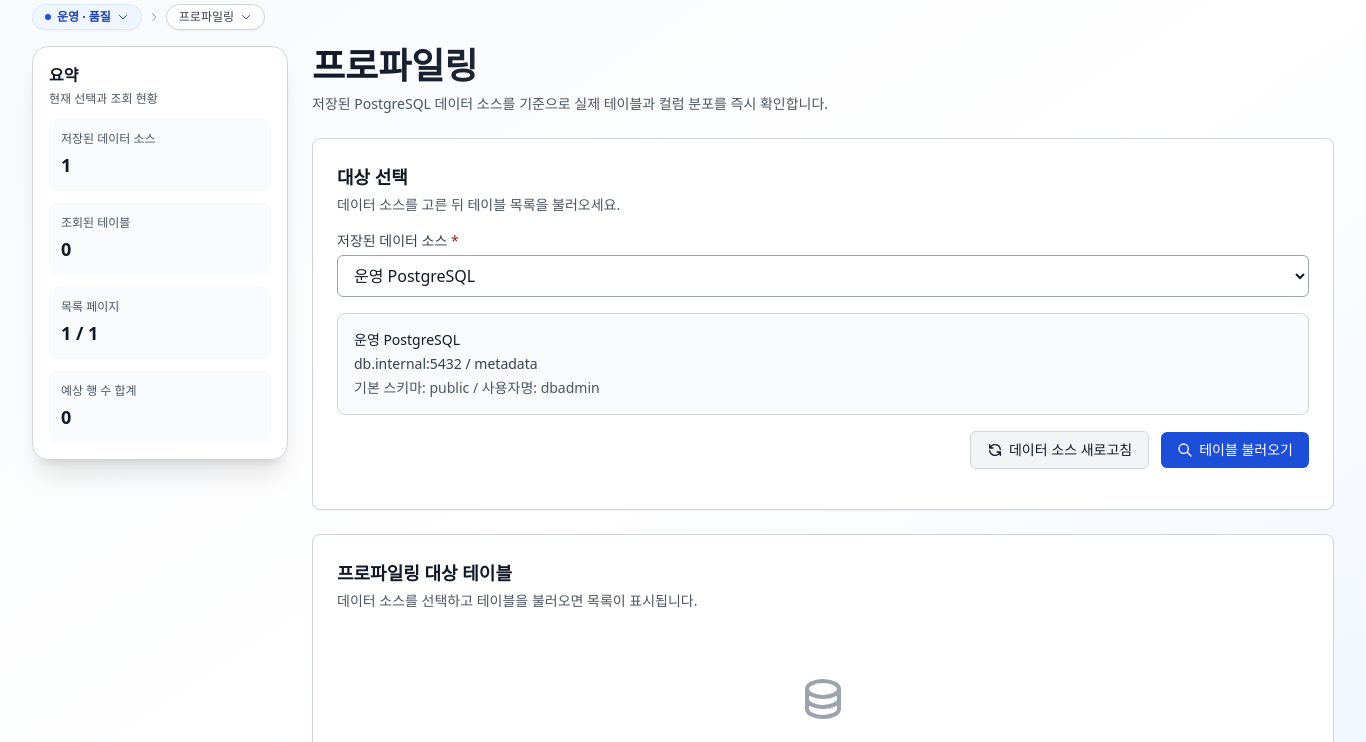
it: Profiling browse page › should paginate profile targets in groups of ten rows
The image size is (1366, 742).
Expected: the dropdown labelled "저장된 데이터 소스" is shown, [337,255,1309,297]
Click the button "테이블 불러오기": coordinates (1235, 450) [1161,432,1309,468]
(page scrolled)
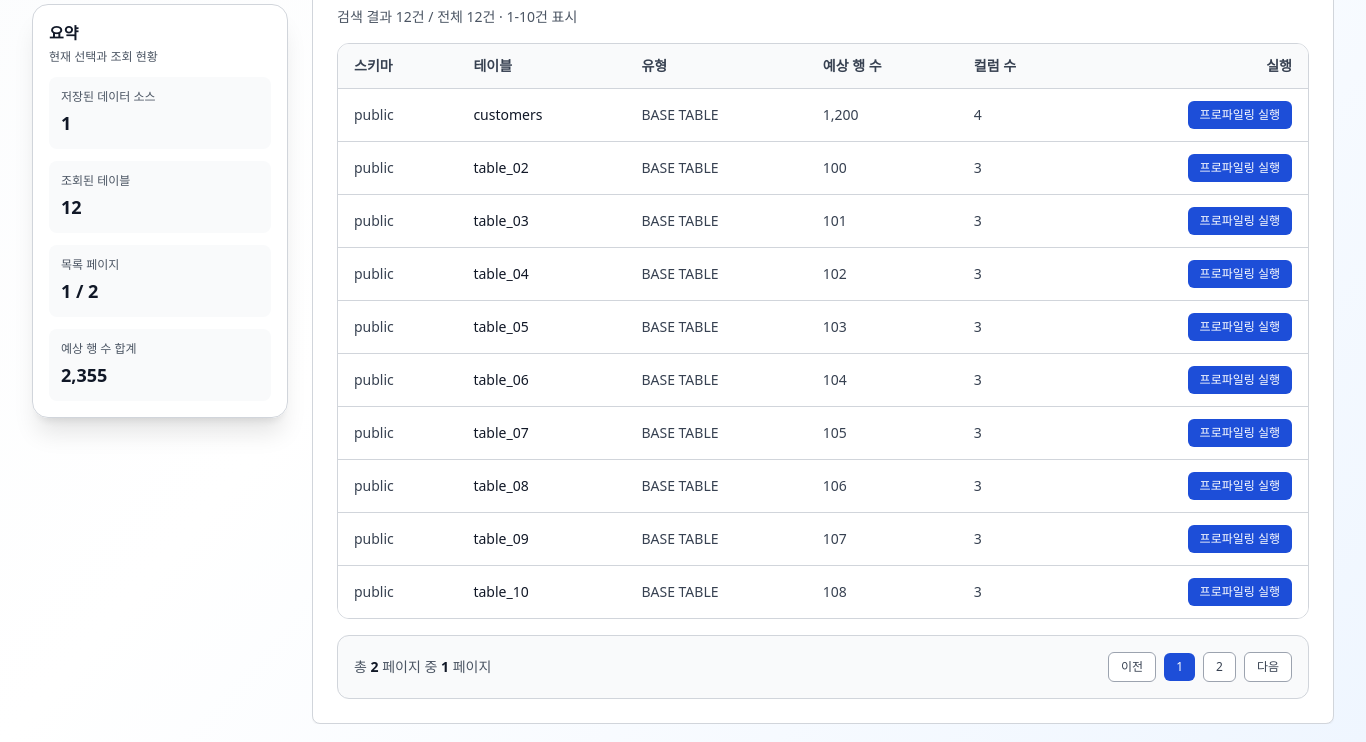
Expected: the navigation bar named "프로파일링 대상 페이지네이션" is shown, [1108,652,1292,682]
Expected: the text "customers" is shown, [473,105,542,124]
Expected: the number of buttons "프로파일링 실행" is 10
Click the button "다음": coordinates (1268, 667) [1244,652,1292,682]
(page scrolled)
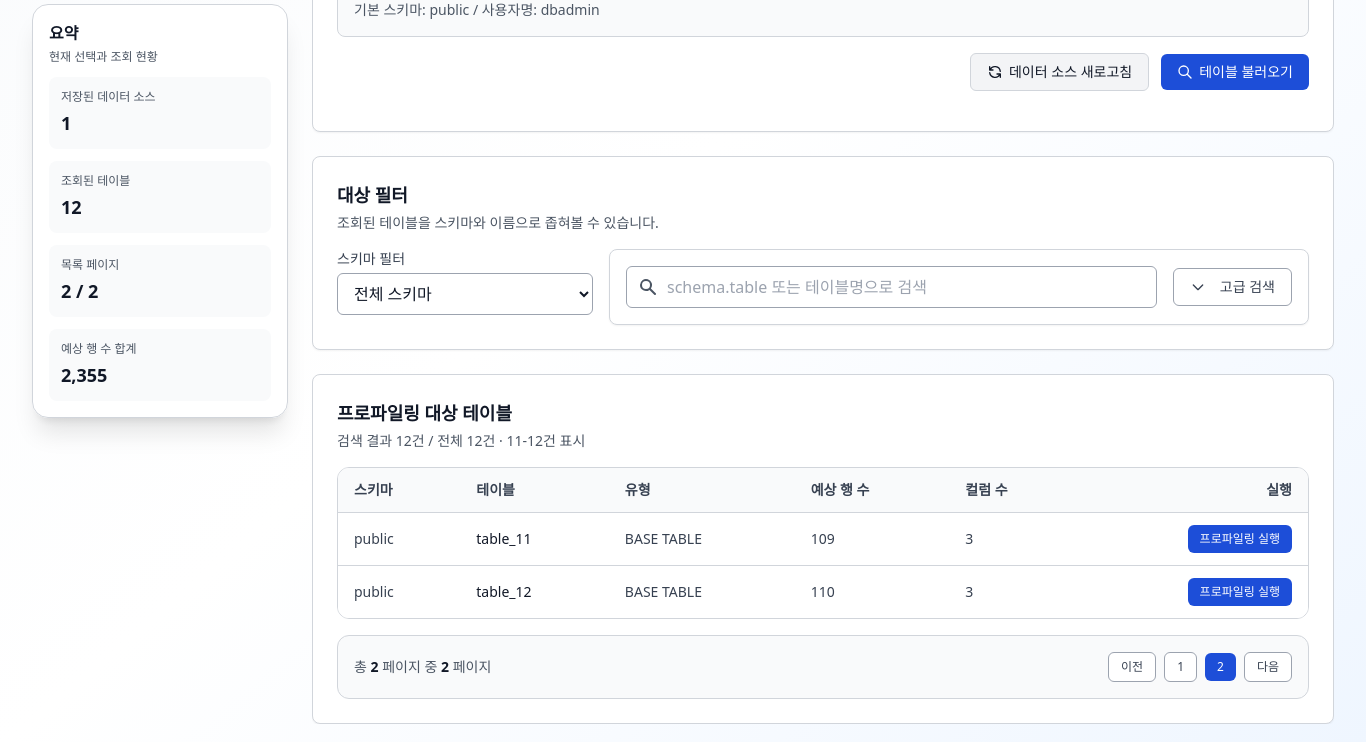
Expected: the text "table_11" is shown, [476,529,532,548]
Expected: the text "customers" is gone
Expected: the number of buttons "프로파일링 실행" is 2, [1188,525,1292,553]; [1188,578,1292,606]
